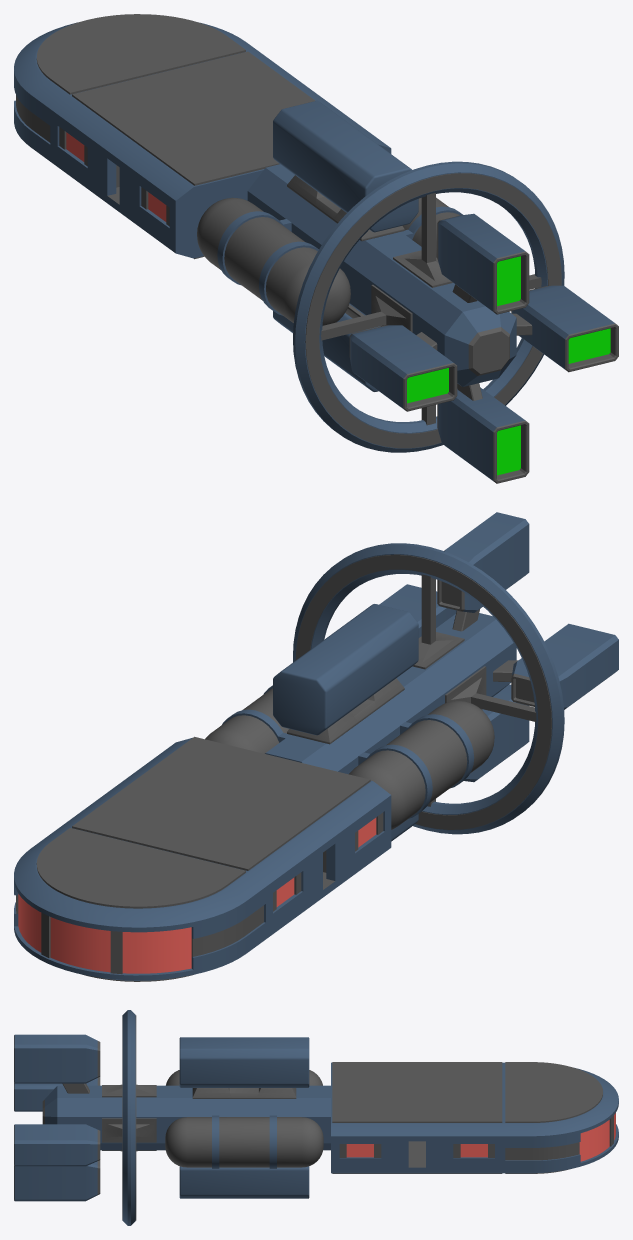
Rendered from RoundShip.glb.
The picture shows the model from 3 angles, top to bottom: view 1: azimuth 30°, elevation 25°; view 2: azimuth 150°, elevation 25°; view 3: azimuth 270°, elevation 25°; orthographic projection. The views are drawn at different scales.
Parts seen in each view (by area): view 1: Primary, Secondary, Glow, Glass; view 2: Primary, Secondary, Glass; view 3: Primary, Secondary, Glass.
Boxes of the visible parts, x1,y1,x2,y2 form: Primary: [14, 22, 614, 481]; Secondary: [16, 14, 618, 483]; Glow: [407, 256, 610, 475]; Glass: [66, 132, 166, 221]; Primary: [14, 512, 618, 980]; Secondary: [16, 554, 551, 981]; Glass: [18, 817, 376, 973]; Primary: [14, 1010, 618, 1225]; Secondary: [14, 1015, 613, 1220]; Glass: [346, 1113, 615, 1161].
Size of the model in its own units: 15 by 15 by 42.
